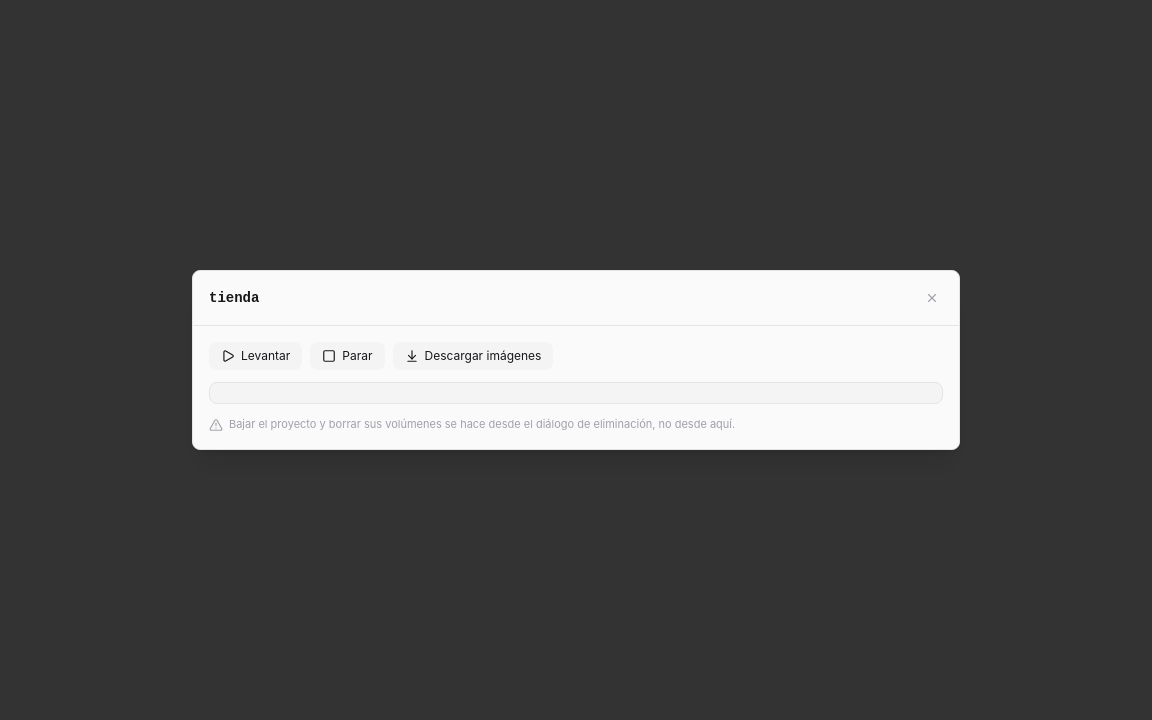
Test: ComposeActionPanel › informa de la duración de la acción
What coordinates should you click on to do the following:
click the button "Levantar"
I would click on:
 (256, 356)
Its box is 209,342 -> 302,370.
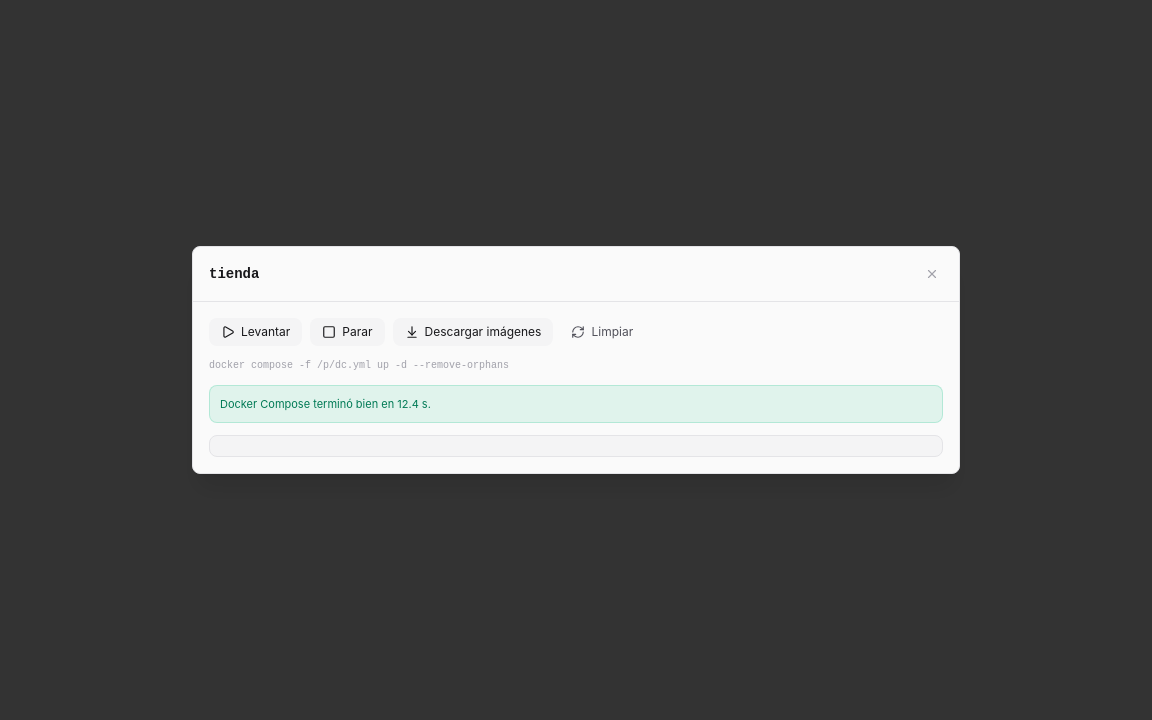
Now the text with test id "compose-exit" reads "Docker Compose terminó bien en 12.4 s.", box 397,397 -> 419,411
